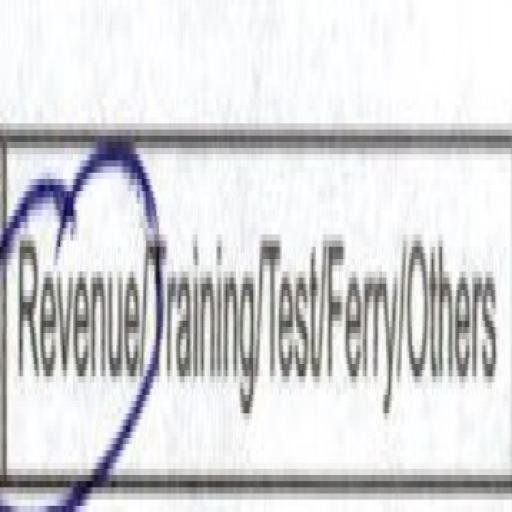check: (0, 13, 144, 512)
